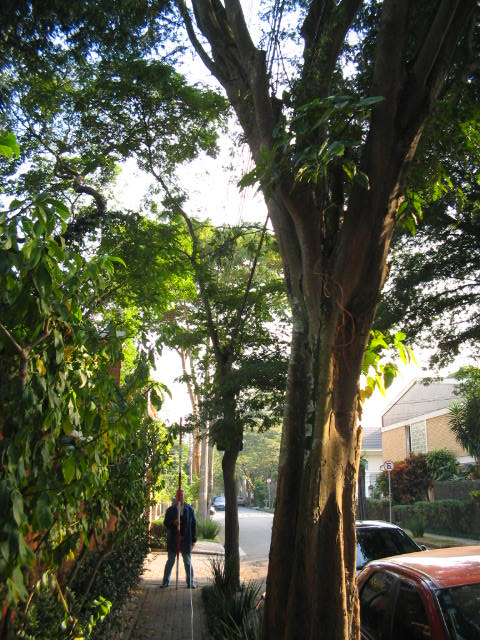stem: (257, 302, 378, 639), (209, 459, 256, 591)
stick: (168, 416, 188, 589)
tree: (143, 205, 270, 593)
